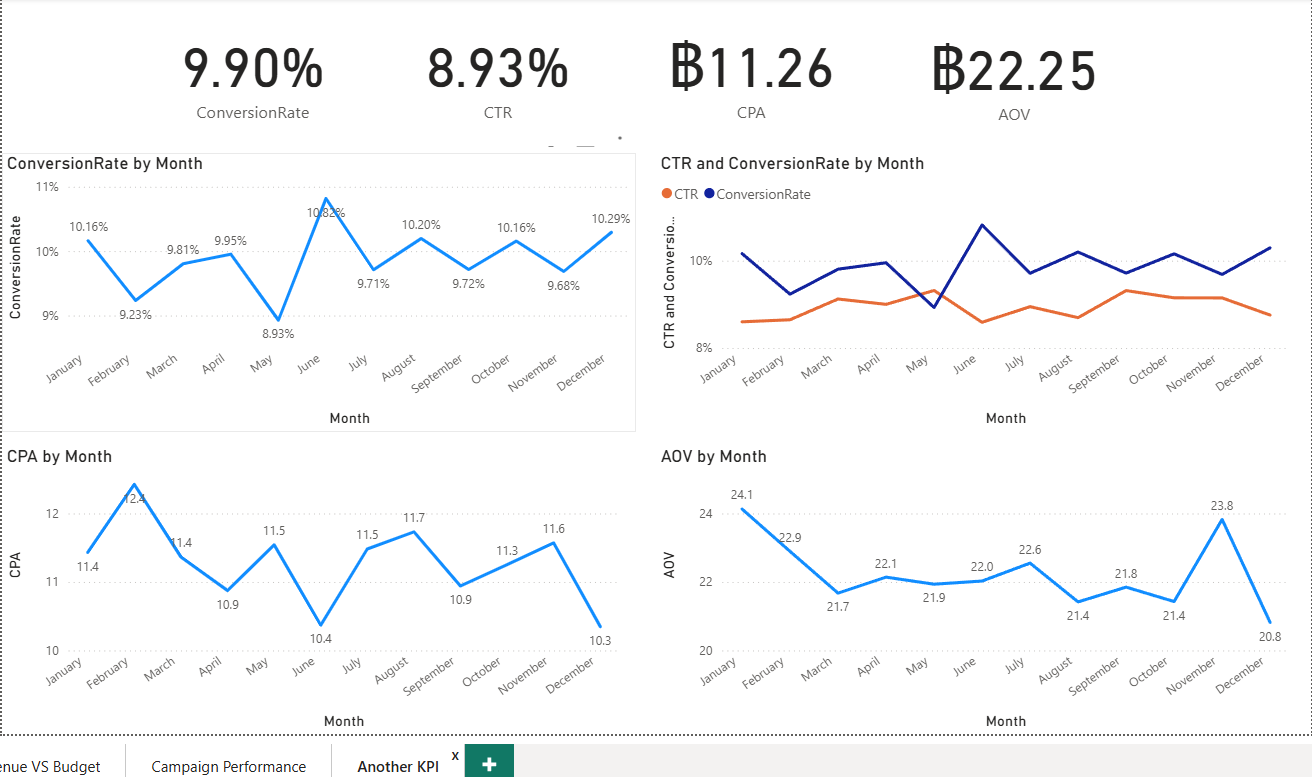

The page's visual inventory and layout, read from the dashboard file:
{"tool":"powerbi","page":{"name":"Another KPI","canvas":[1280,720],"ordinal":2},"visuals":[{"type":"lineChart","fields":{"Category":["Monthly_Trend_Permanent.Month.Variation.Date Hierarchy.Month"],"Y":["Monthly_Trend_Permanent.ConversionRate"]},"box":[0,151.2,620,272.5],"z":0},{"type":"lineChart","fields":{"Category":["Monthly_Trend_Permanent.Month.Variation.Date Hierarchy.Month"],"Y":["Monthly_Trend_Permanent.CTR","Monthly_Trend_Permanent.ConversionRate"]},"box":[640,151.2,625,272.5],"z":1000},{"type":"card","fields":{"Values":["Monthly_Trend_Permanent.ConversionRate"]},"box":[137.5,0,217.5,145],"z":2000},{"type":"card","fields":{"Values":["Monthly_Trend_Permanent.CTR"]},"box":[370,0,230,145],"z":3000},{"type":"card","fields":{"Values":["Monthly_Trend_Permanent.CPA"]},"box":[608.8,0,248.8,145],"z":4000},{"type":"lineChart","fields":{"Category":["Monthly_Trend_Permanent.Month.Variation.Date Hierarchy.Month"],"Y":["Monthly_Trend_Permanent.CPA"]},"box":[0,437.5,608.8,282.5],"z":5000},{"type":"card","fields":{"Values":["Monthly_Trend_Permanent.AOV"]},"box":[875,0,230,150],"z":6000},{"type":"lineChart","fields":{"Category":["Monthly_Trend_Permanent.Month.Variation.Date Hierarchy.Month"],"Y":["Monthly_Trend_Permanent.AOV"]},"box":[640,437.5,625,282.5],"z":7000}]}

Visuals, with their boxes on the page's 1280x720 design canvas (x1, y1, x2, y2). These are canvas units, not pixel positions in the 1312x777 screenshot, which may show the page scaled, cropped or inside an application window:
lineChart - Monthly_Trend_Permanent.Month.Variation.Date Hierarchy.Month x Monthly_Trend_Permanent.ConversionRate: box=[0, 151, 620, 424]
lineChart - Monthly_Trend_Permanent.Month.Variation.Date Hierarchy.Month x Monthly_Trend_Permanent.CTR: box=[640, 151, 1265, 424]
card - Monthly_Trend_Permanent.ConversionRate: box=[138, 0, 355, 145]
card - Monthly_Trend_Permanent.CTR: box=[370, 0, 600, 145]
card - Monthly_Trend_Permanent.CPA: box=[609, 0, 858, 145]
lineChart - Monthly_Trend_Permanent.Month.Variation.Date Hierarchy.Month x Monthly_Trend_Permanent.CPA: box=[0, 438, 609, 720]
card - Monthly_Trend_Permanent.AOV: box=[875, 0, 1105, 150]
lineChart - Monthly_Trend_Permanent.Month.Variation.Date Hierarchy.Month x Monthly_Trend_Permanent.AOV: box=[640, 438, 1265, 720]
